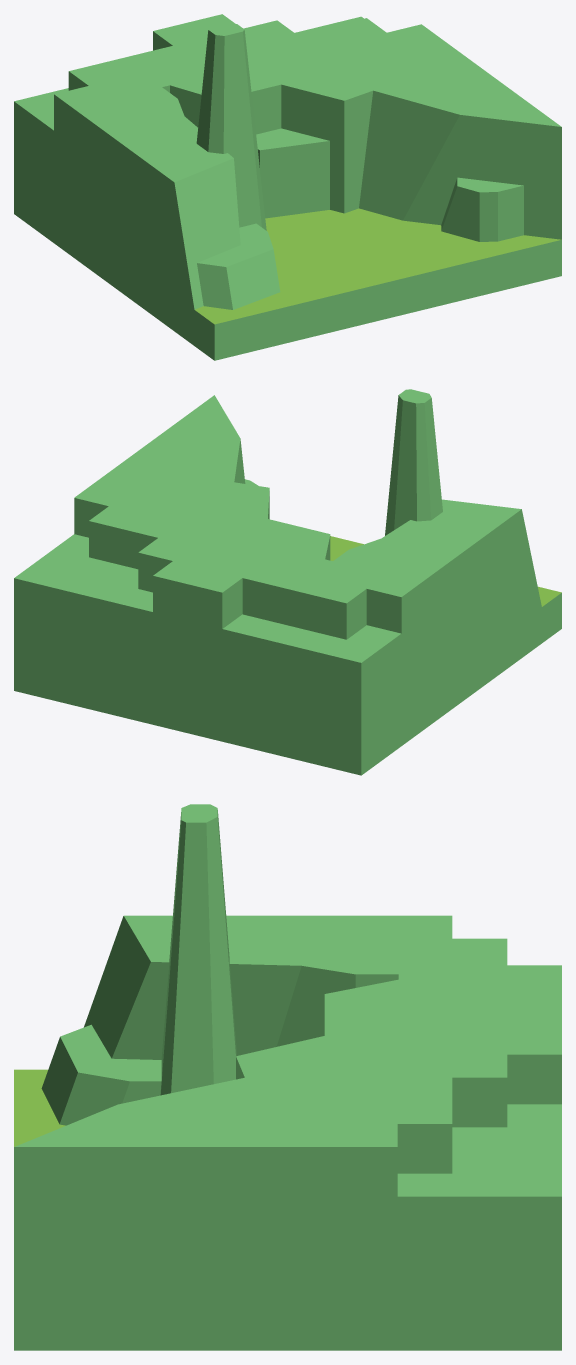
The model's file is x_zem_1_10_1_mirror.fbx.
3 views of the same model, one above another, from view 1: azimuth 30°, elevation 25°; view 2: azimuth 150°, elevation 25°; view 3: azimuth 270°, elevation 25° (orthographic). The views are drawn at different scales.
Visible parts, largest first — view 1: x_zem_1_10_1_mirror1; view 2: x_zem_1_10_1_mirror1; view 3: x_zem_1_10_1_mirror1.
Boxes of the visible parts, x1,y1,x2,y2 form: x_zem_1_10_1_mirror1: (14,14,561,360); x_zem_1_10_1_mirror1: (14,389,561,775); x_zem_1_10_1_mirror1: (14,804,561,1350).
Size of the model in its own units: 10 by 7.22 by 10.
